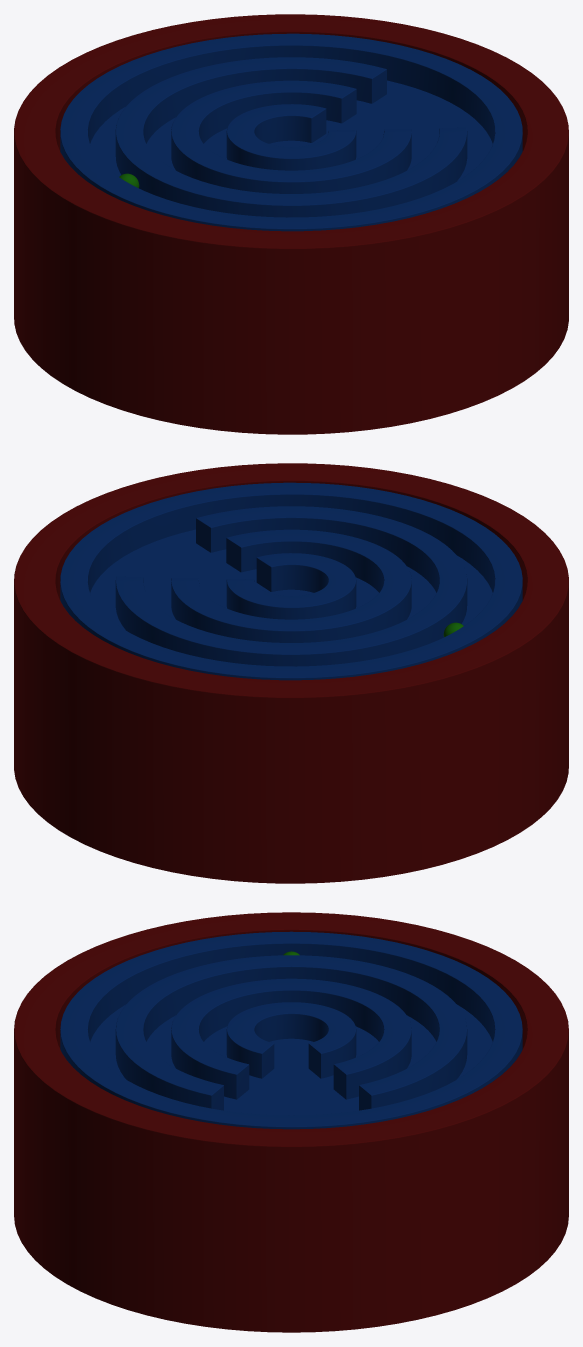
Rendered from maze.fbx.
3 views of the same model, one above another, from view 1: azimuth 30°, elevation 25°; view 2: azimuth 150°, elevation 25°; view 3: azimuth 270°, elevation 25° (orthographic).
Visible parts, largest first — view 1: stand, base, ring_outer, ring_middle, ring_inner; view 2: stand, base, ring_outer, ring_middle, ring_inner; view 3: stand, base, ring_outer, ring_middle, ring_inner.
Boxes of the visible parts, left/top/right/bottom form: stand: left=14, top=14, right=568, bottom=434; base: left=60, top=33, right=522, bottom=231; ring_outer: left=115, top=57, right=467, bottom=217; ring_middle: left=171, top=80, right=411, bottom=193; ring_inner: left=226, top=104, right=356, bottom=170; stand: left=14, top=463, right=568, bottom=883; base: left=60, top=482, right=522, bottom=680; ring_outer: left=115, top=506, right=467, bottom=666; ring_middle: left=171, top=529, right=411, bottom=642; ring_inner: left=226, top=553, right=356, bottom=619; stand: left=14, top=912, right=568, bottom=1332; base: left=60, top=931, right=522, bottom=1129; ring_outer: left=115, top=955, right=467, bottom=1110; ring_middle: left=171, top=978, right=411, bottom=1099; ring_inner: left=226, top=1002, right=356, bottom=1078.
Bounding box in the file's own units: 60 × 22.2 × 60.
